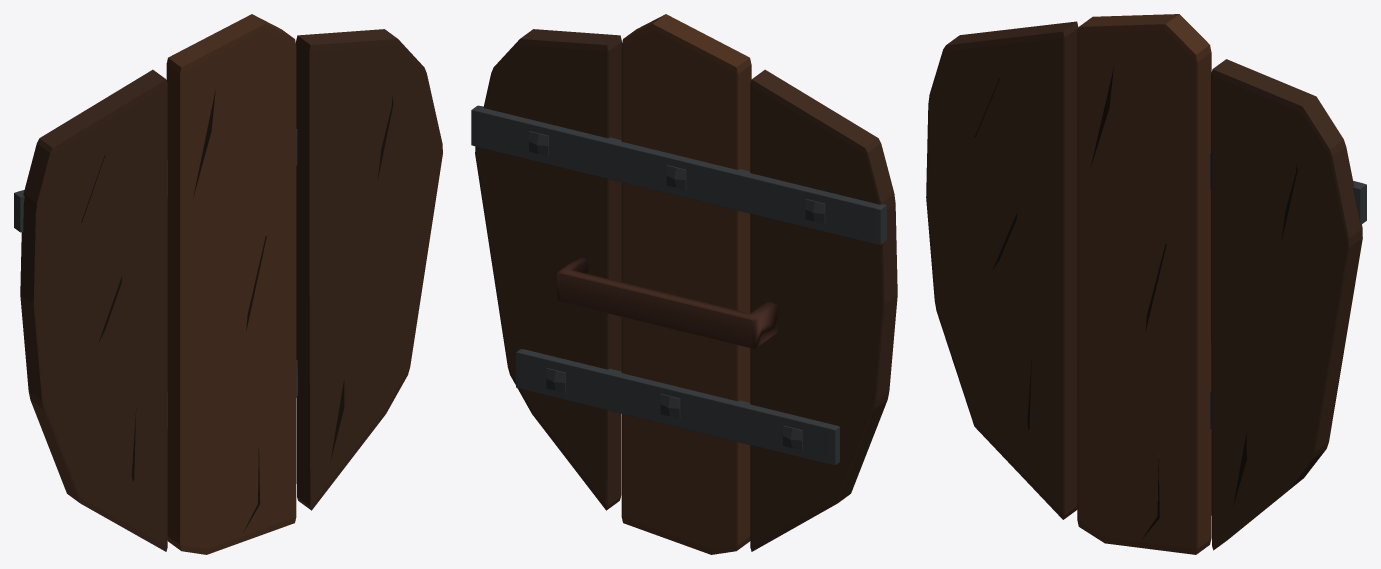
Rendered from shield_wood_poor_1.glb.
3 views of the same model, side by side, from view 1: azimuth 30°, elevation 25°; view 2: azimuth 150°, elevation 25°; view 3: azimuth 330°, elevation 25° (orthographic). The views are drawn at different scales.
Parts seen in each view (by area): view 1: Middle, Left, Right; view 2: Middle, Left, Right, Iron_1, Iron_1.001, Cube.001; view 3: Middle, Left, Right, Iron_1.
Boxes of the visible parts, left/top/right/bottom form: Middle: left=166, top=14, right=296, bottom=554; Left: left=20, top=69, right=167, bottom=551; Right: left=296, top=29, right=442, bottom=510; Middle: left=621, top=14, right=751, bottom=554; Left: left=750, top=69, right=897, bottom=551; Right: left=475, top=29, right=621, bottom=510; Iron_1: left=471, top=105, right=886, bottom=244; Iron_1.001: left=516, top=349, right=839, bottom=465; Cube.001: left=557, top=257, right=777, bottom=348; Middle: left=1077, top=14, right=1211, bottom=554; Left: left=926, top=21, right=1078, bottom=519; Right: left=1211, top=59, right=1362, bottom=550; Iron_1: left=1077, top=120, right=1366, bottom=223.
Size of the model in its own units: 0.3162 by 0.3805 by 0.0483.
